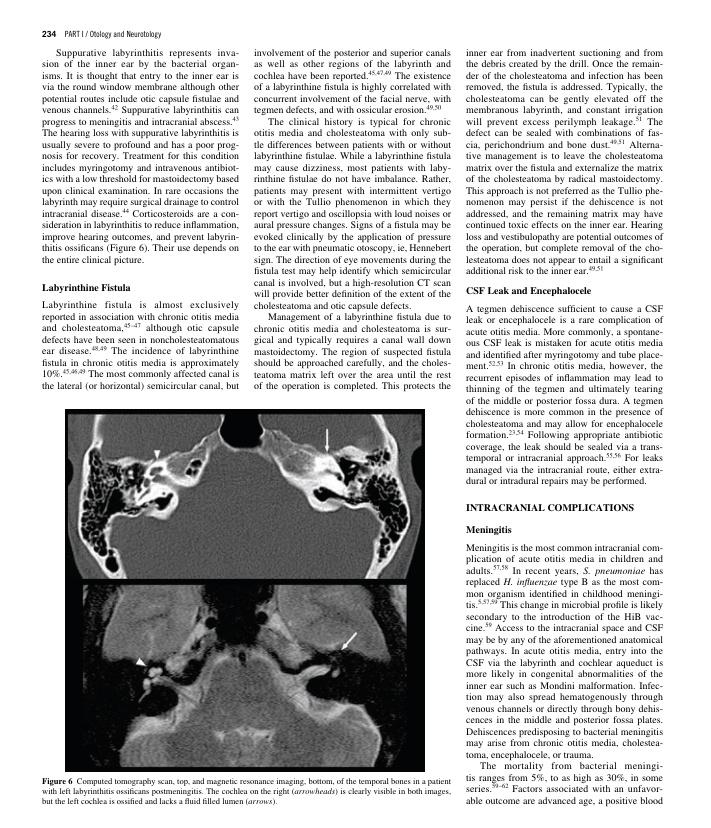caption: (40, 775, 453, 807)
header: (65, 29, 162, 39)
image: (65, 404, 426, 771)
section-heading: (464, 499, 636, 516)
sub-section-heading: (465, 283, 591, 298), (42, 283, 131, 293), (465, 523, 512, 536)
text: (252, 47, 452, 394), (463, 542, 666, 808), (465, 46, 664, 278), (38, 46, 242, 265), (464, 303, 664, 488), (40, 299, 240, 391)
